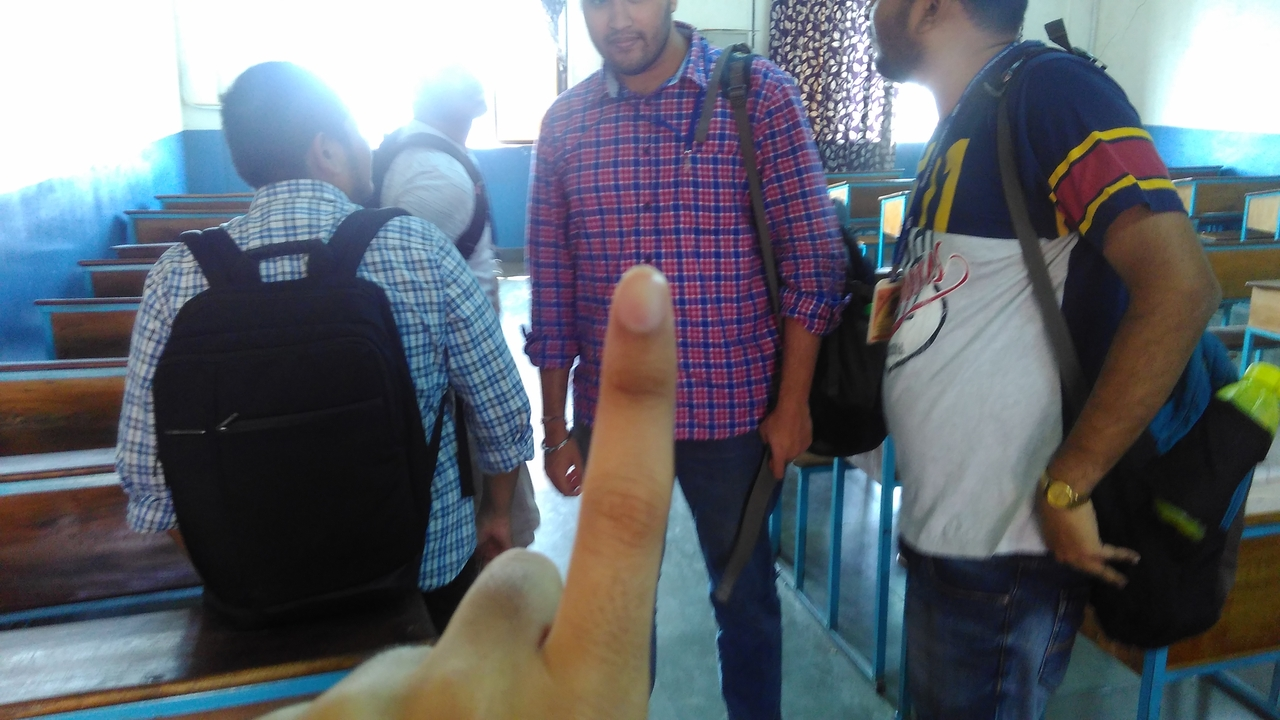fingertip: (608, 266, 680, 338)
